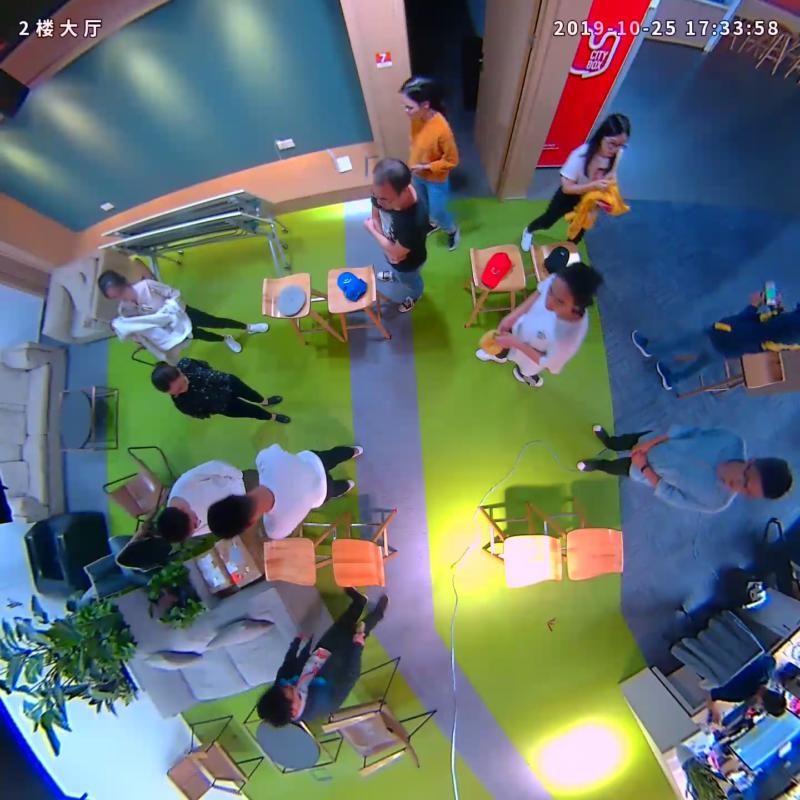head: (724, 457, 793, 501), (544, 262, 595, 312), (207, 492, 260, 540), (370, 158, 411, 210), (257, 682, 303, 728), (396, 74, 433, 120), (157, 504, 199, 542), (601, 114, 632, 156), (97, 268, 133, 304), (150, 362, 188, 395)
